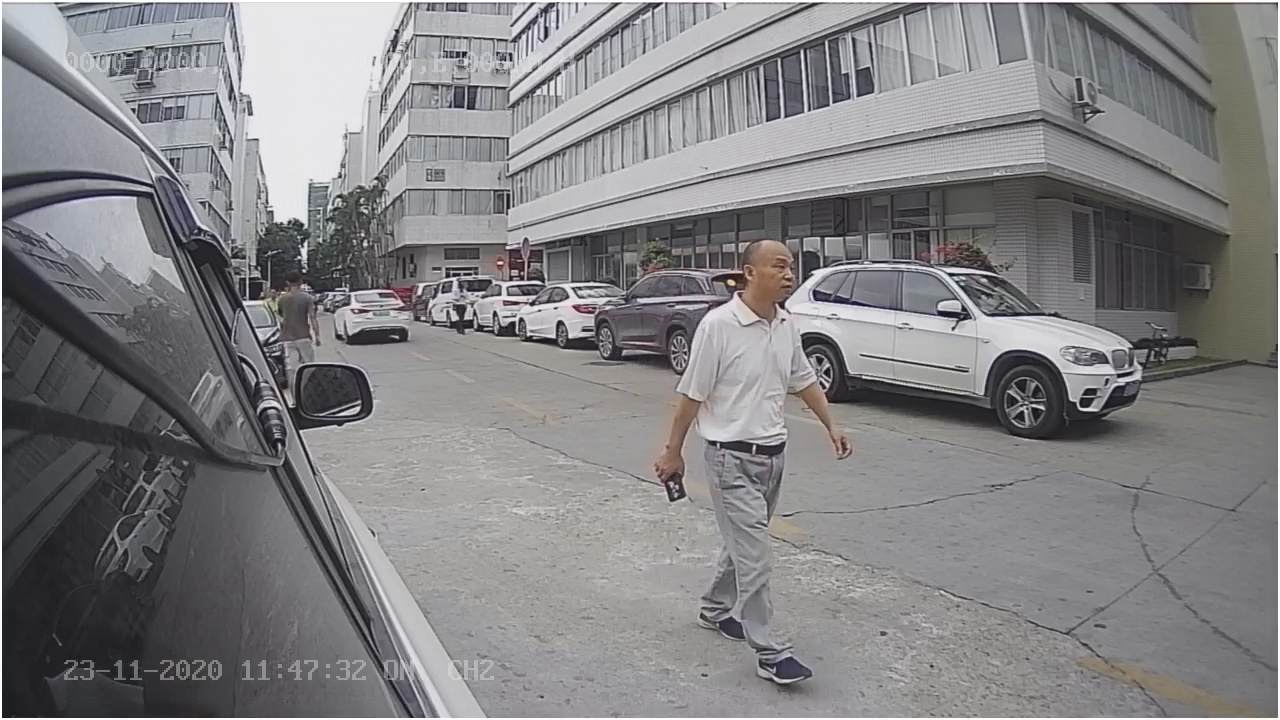person: (654, 229, 851, 680)
